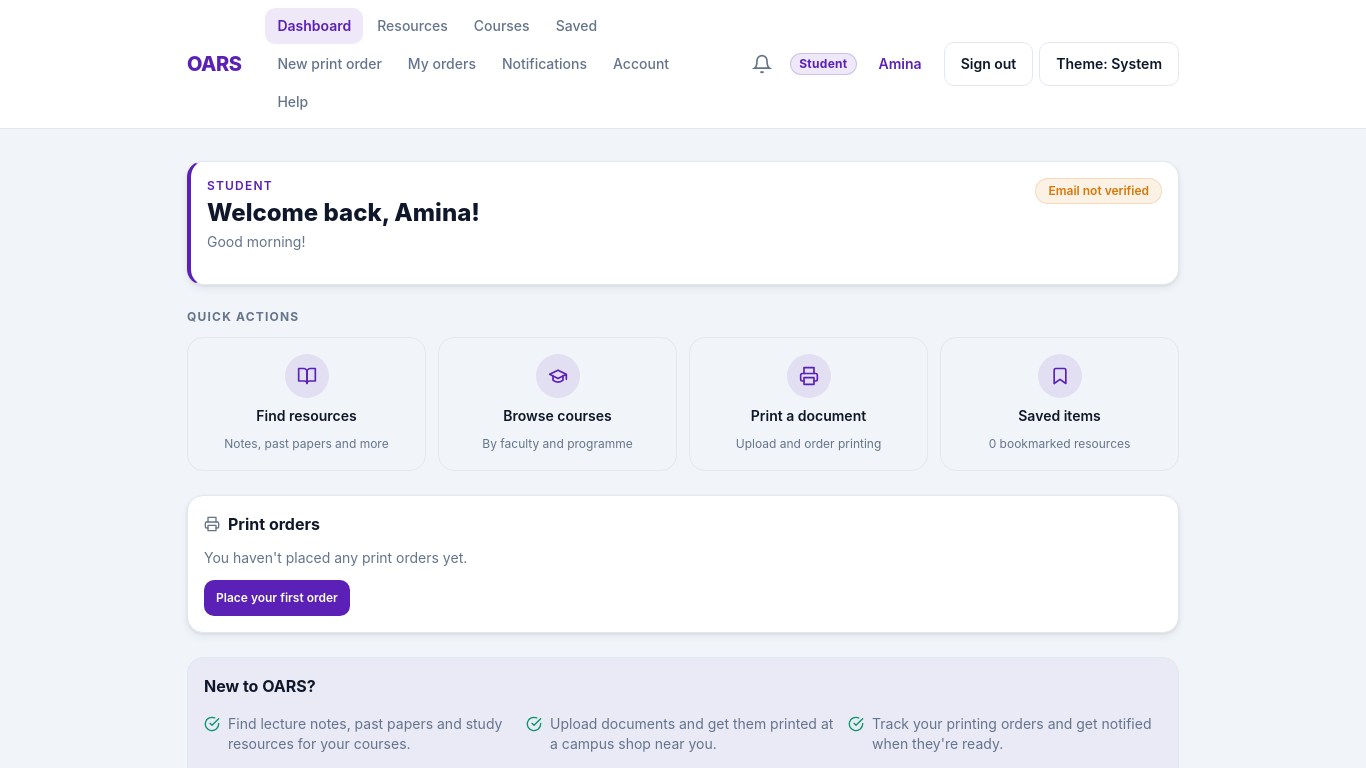
Test: Logout clears role state › after sign-out, user sees the public nav (Sign in / Register), not role nav
Expected: the heading "Welcome back, Amina!" is shown, [207,198,480,228]
Sign out
Click the button "Sign out" at (988, 64), box [944,42,1033,86]
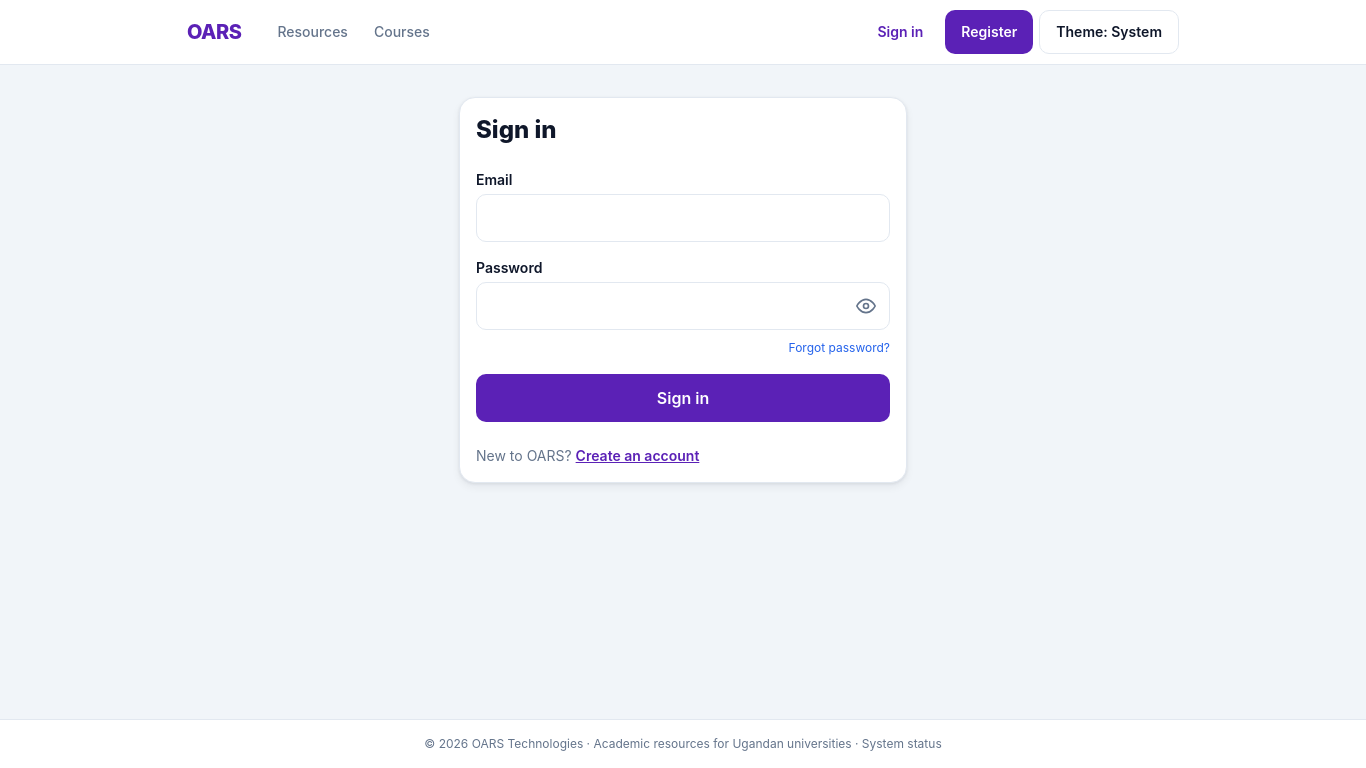
Now the link "Sign in" is shown, box [877,23,923,40]
Now the text "Student" is gone
